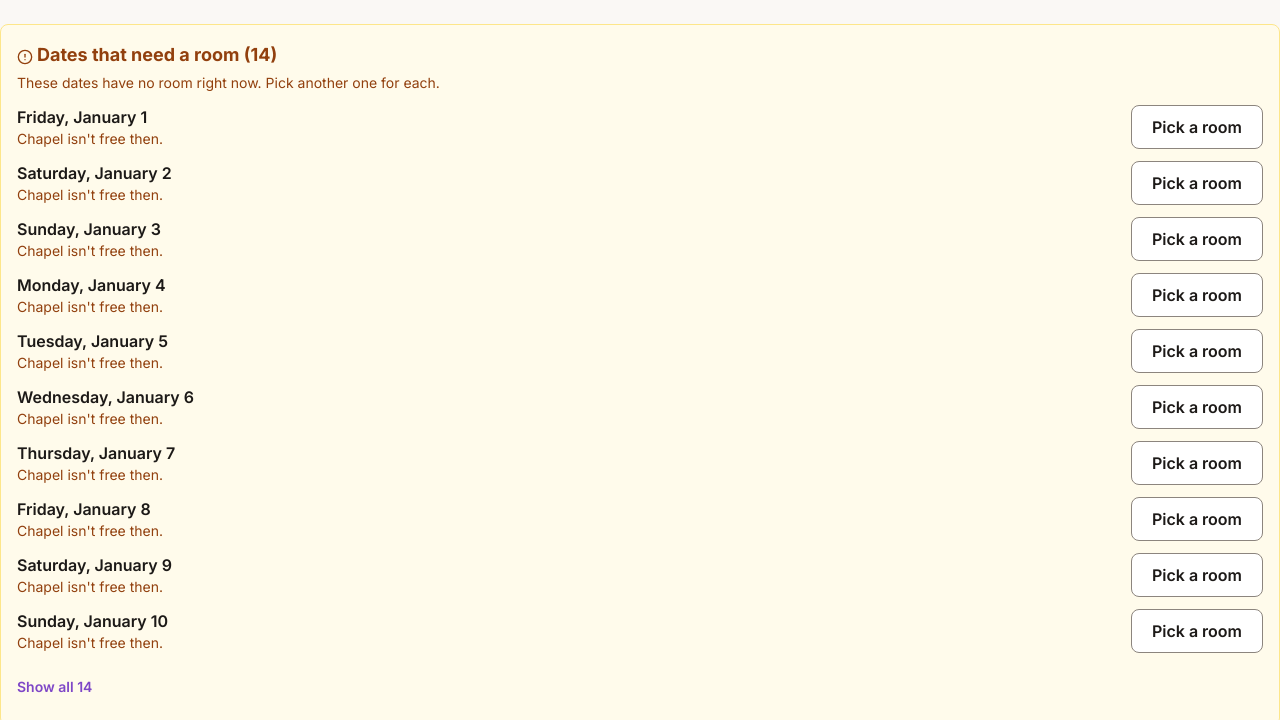
it: shows the first 10 dates with the count in the heading, and the rest on request
Check: the heading "Dates that need a room (14)" is shown, box x1=17 y1=44 x2=277 y2=65
Click the button "Show all 14". click: (55, 687)
box: x1=17 y1=665 x2=92 y2=709
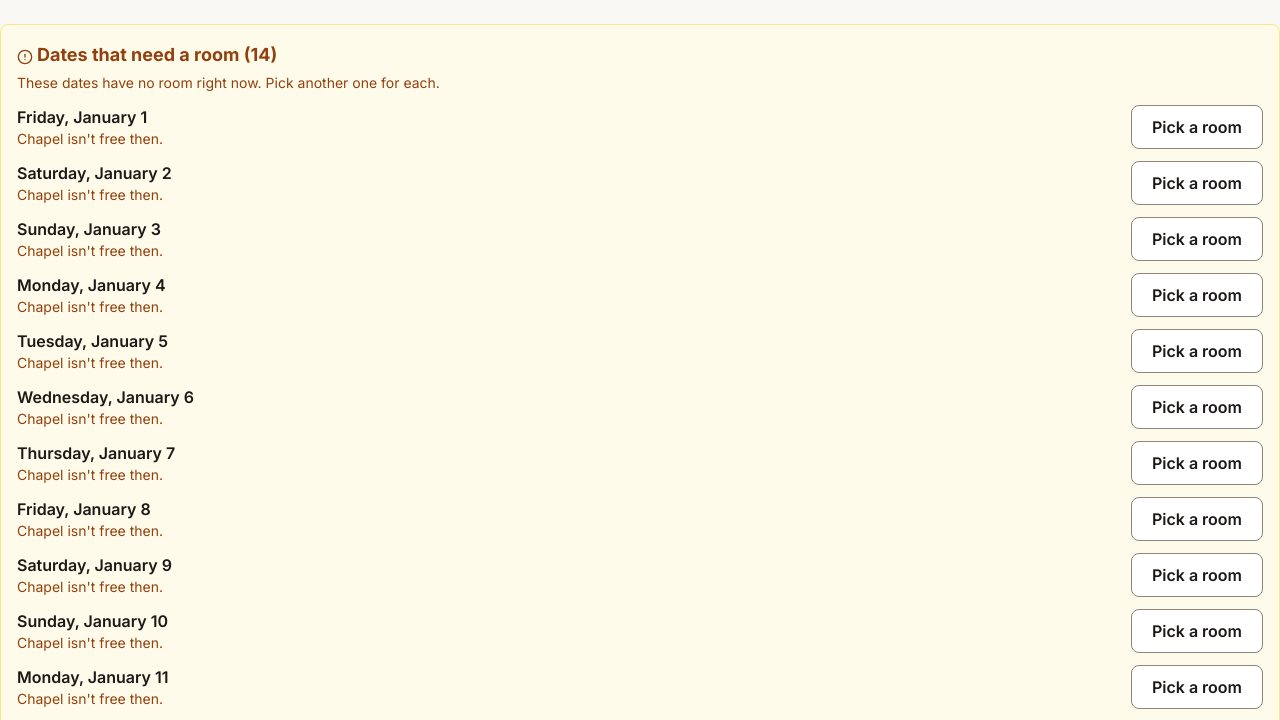
Check: the button "Show all" is gone
